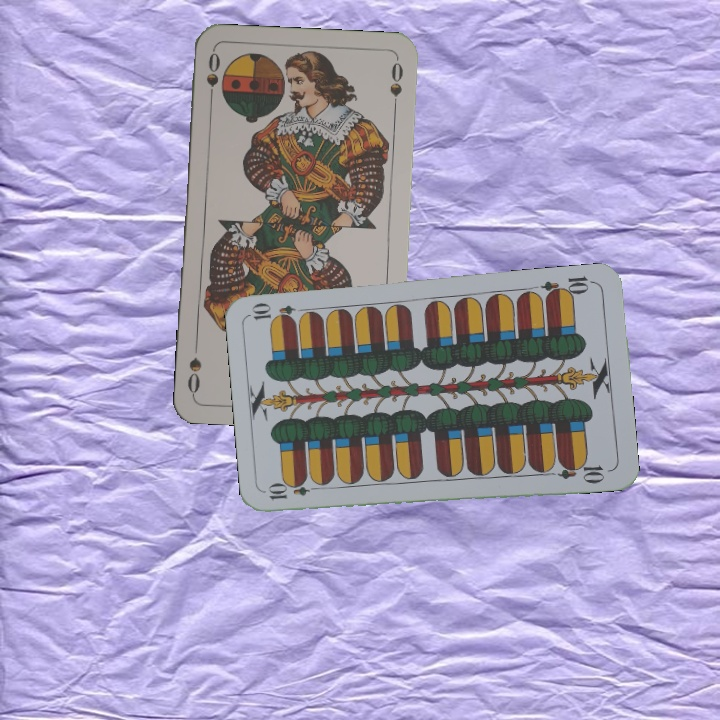E10: (538, 272, 597, 302), (264, 480, 323, 502)
SO: (202, 48, 223, 107)
